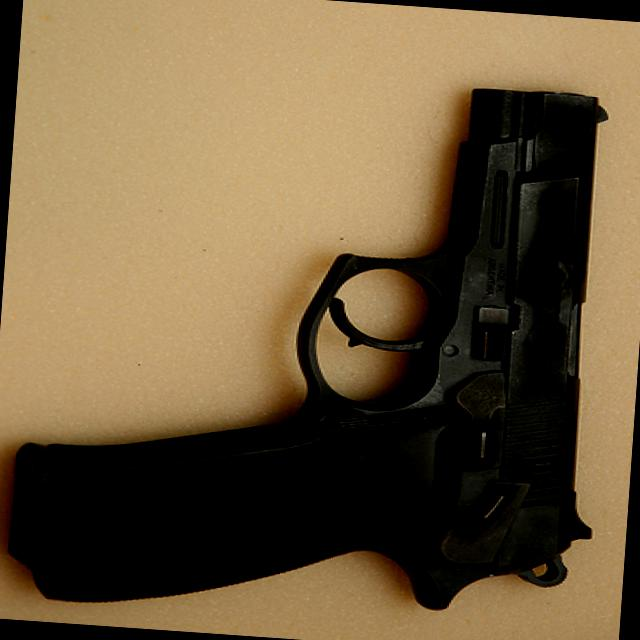handgun: (1, 53, 624, 635)
